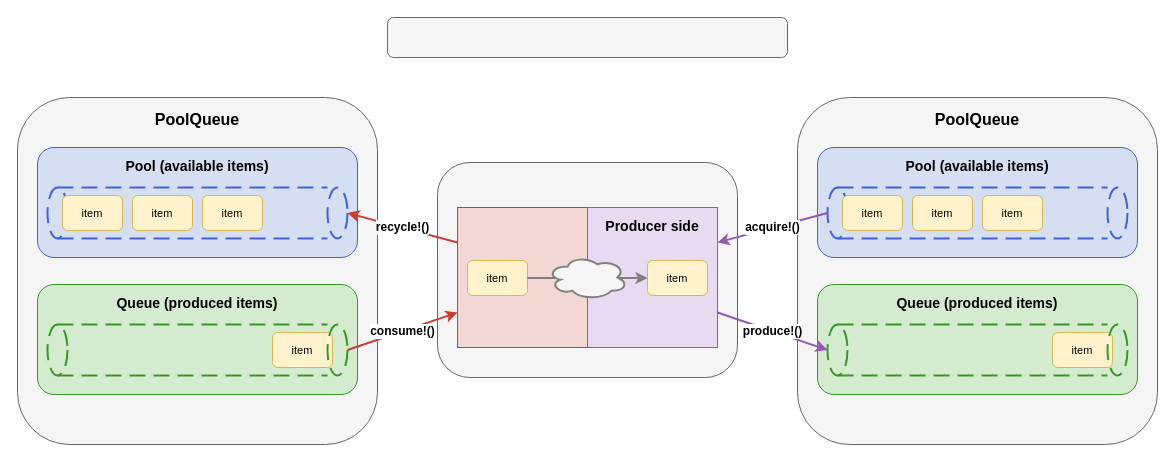
Image size: 1175x462. Some labels were removed from this diagram. The shapes that lost their labels are listed below. From the top down, each one's box as (x1, y1, x2, y2) in pixels, then its label:
(386, 16, 788, 58): PoolQueue Pipeline Pattern
(456, 206, 588, 348): Consumer side
(436, 162, 738, 378): Pipeline Task
(546, 254, 628, 300): process
